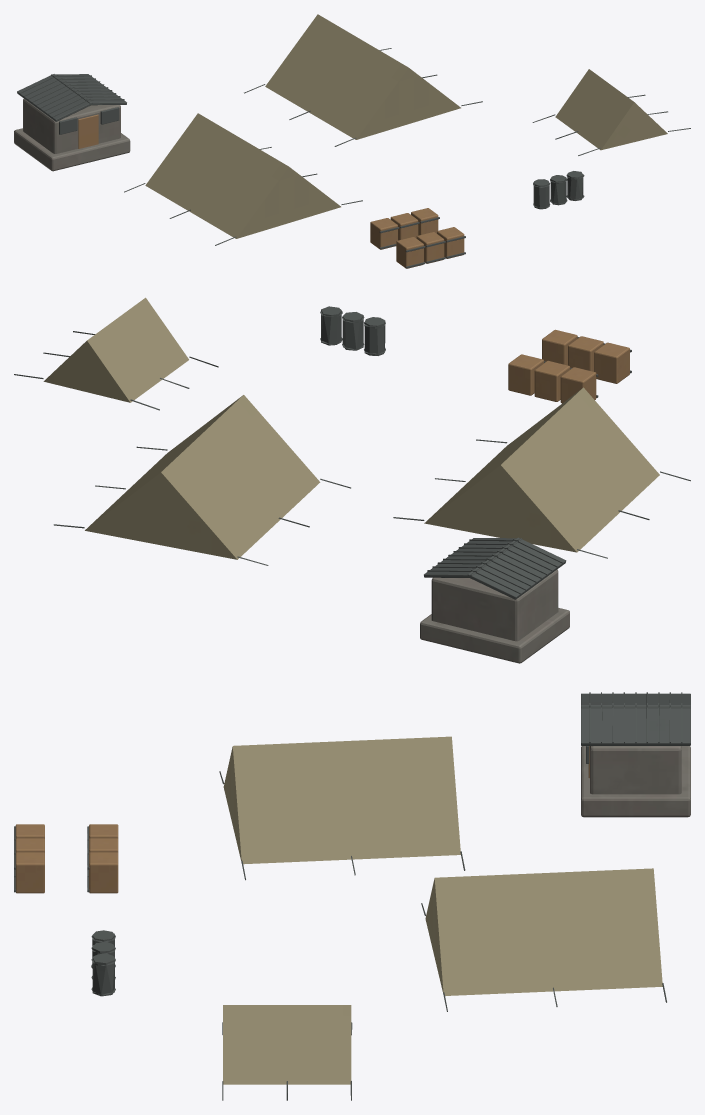
Rendered from cinder-lod1.glb.
3 views of the same model, one above another, from view 1: azimuth 30°, elevation 25°; view 2: azimuth 150°, elevation 25°; view 3: azimuth 270°, elevation 25° (orthographic). The views are drawn at different scales.
Parts seen in each view (by area): view 1: cinder_ridge_tent_1.001, cinder_ridge_tent_0.001, cinder_generator_shed_6.001, cinder_small_tent_2.001, cinder_crate_stack_4.001, cinder_crate_stack_3.001, cinder_drum_cluster_5.001; view 2: cinder_ridge_tent_1.001, cinder_ridge_tent_0.001, cinder_generator_shed_6.001, cinder_small_tent_2.001, cinder_crate_stack_3.001, cinder_crate_stack_4.001, cinder_drum_cluster_5.001; view 3: cinder_ridge_tent_1.001, cinder_ridge_tent_0.001, cinder_generator_shed_6.001, cinder_small_tent_2.001, cinder_crate_stack_3.001, cinder_crate_stack_4.001, cinder_drum_cluster_5.001.
Part boxes in pixels (x1,y1,x2,y2): cinder_ridge_tent_1.001: (244, 14, 482, 146); cinder_ridge_tent_0.001: (124, 113, 362, 245); cinder_generator_shed_6.001: (14, 74, 130, 171); cinder_small_tent_2.001: (532, 69, 690, 155); cinder_crate_stack_4.001: (396, 227, 465, 268); cinder_crate_stack_3.001: (370, 208, 439, 249); cinder_drum_cluster_5.001: (533, 171, 584, 209); cinder_ridge_tent_1.001: (53, 395, 350, 565); cinder_ridge_tent_0.001: (393, 387, 690, 558); cinder_generator_shed_6.001: (420, 537, 569, 663); cinder_small_tent_2.001: (14, 297, 218, 410); cinder_crate_stack_3.001: (508, 354, 598, 403); cinder_crate_stack_4.001: (542, 329, 631, 383); cinder_drum_cluster_5.001: (320, 306, 385, 355); cinder_ridge_tent_1.001: (421, 868, 666, 1011); cinder_ridge_tent_0.001: (219, 736, 465, 880); cinder_generator_shed_6.001: (581, 692, 690, 817); cinder_small_tent_2.001: (222, 1005, 352, 1100); cinder_crate_stack_3.001: (87, 824, 118, 893); cinder_crate_stack_4.001: (14, 824, 44, 893); cinder_drum_cluster_5.001: (91, 930, 115, 996).
Size of the model in its own units: 45.5 by 5.8 by 36.89.
4 materials, 4 textured.
